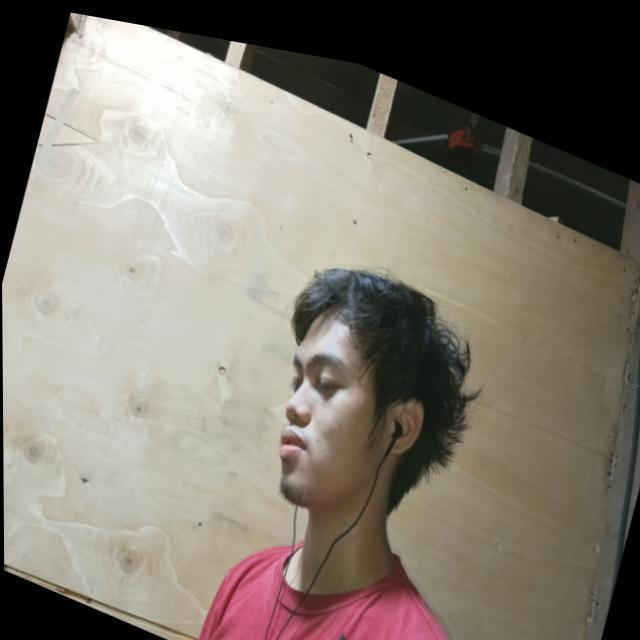Nonhelmet: (274, 266, 482, 513)
